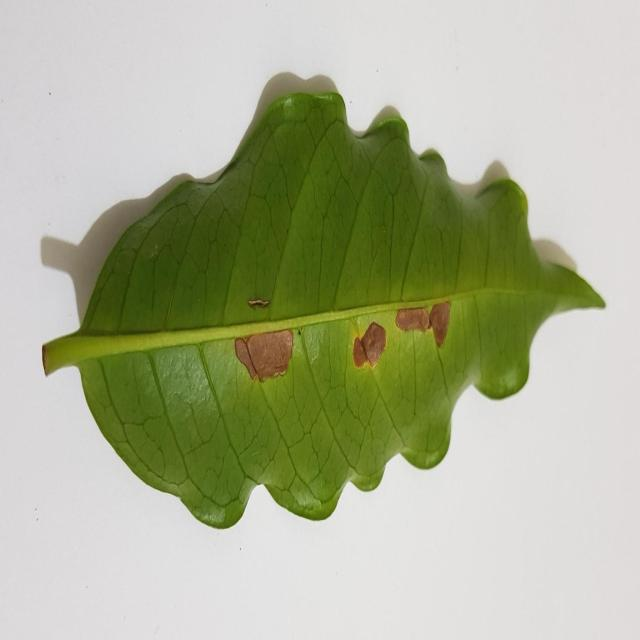Plaga-Minador: (41, 73, 607, 532)
